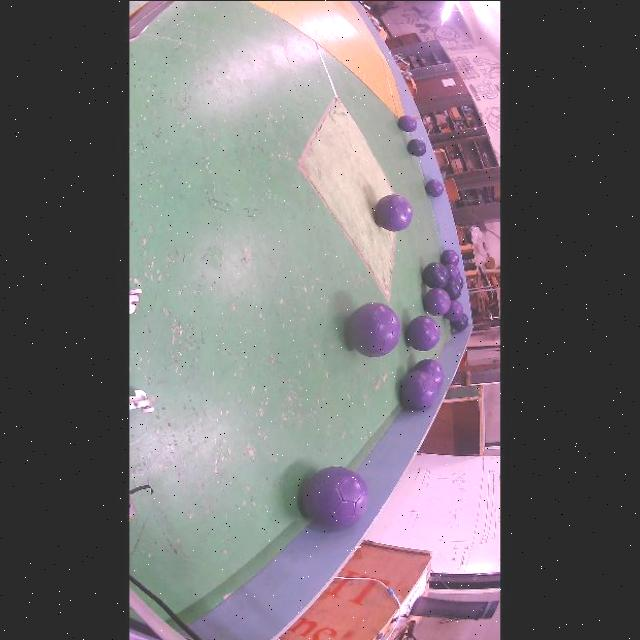B: (421, 262, 449, 287), (443, 279, 461, 300), (407, 138, 427, 155), (450, 313, 468, 331)
P: (301, 466, 369, 527), (347, 301, 401, 356), (400, 369, 437, 409), (374, 194, 412, 231), (406, 315, 440, 350), (412, 358, 445, 387), (423, 287, 450, 315), (443, 300, 463, 320), (397, 114, 416, 132), (425, 178, 443, 196), (440, 248, 459, 265), (445, 262, 460, 280)
